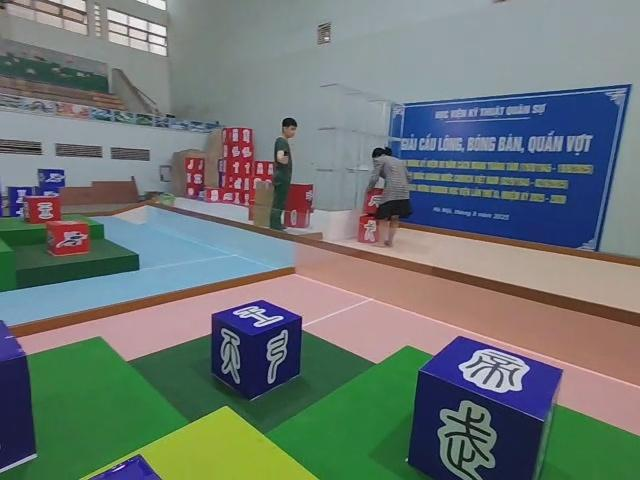R2 Fake Blue: (409, 338, 564, 480), (212, 299, 305, 401)
